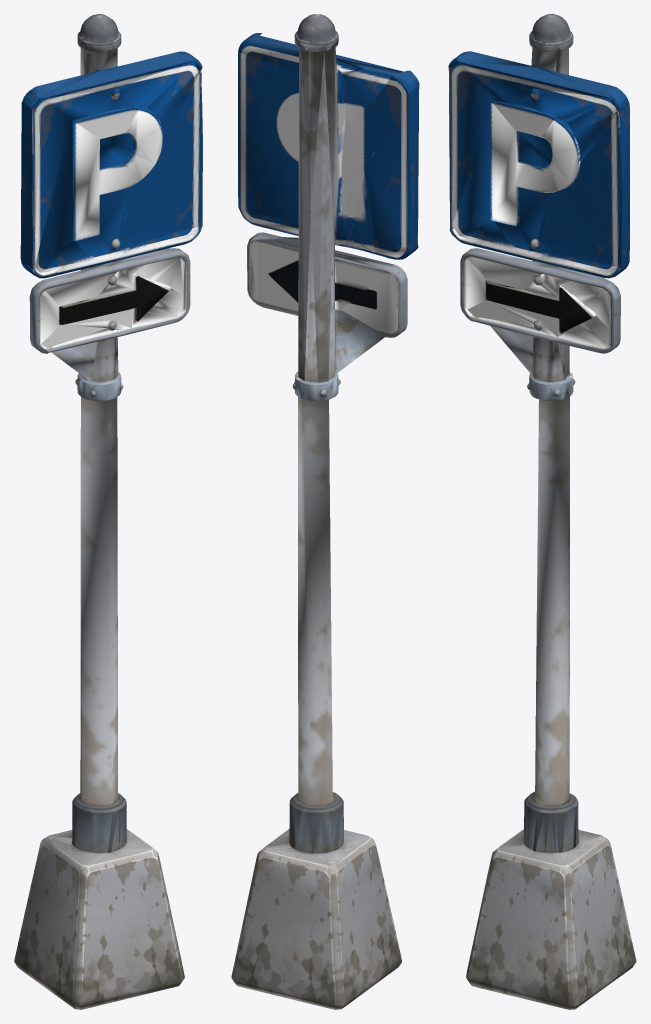
File: PRP_Parking_Sign_A.glb
3 renders of one model, left to right at view 1: azimuth 30°, elevation 25°; view 2: azimuth 150°, elevation 25°; view 3: azimuth 330°, elevation 25°, orthographic.
Parts seen in each view (by area): view 1: Mesh_0; view 2: Mesh_0; view 3: Mesh_0.
Boxes of the visible parts, box(x1,y1,x2,y2) form: Mesh_0: box(14, 14, 202, 1009); Mesh_0: box(231, 14, 419, 1009); Mesh_0: box(448, 14, 636, 1009).
Bounding box in the file's own units: 0.4755 × 2.5 × 0.3052.
1 material, 1 textured.
